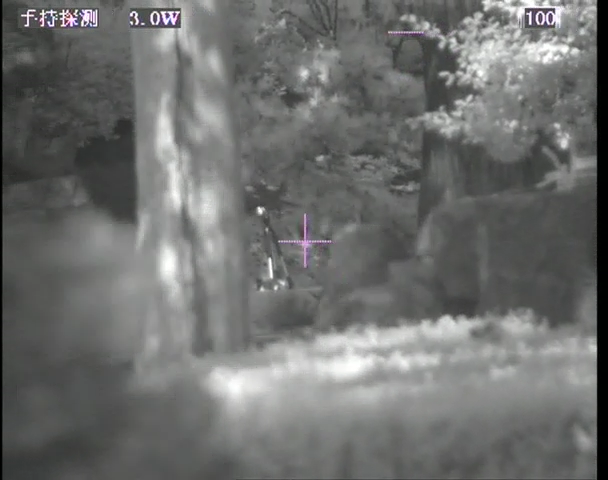my: (255, 206, 266, 217)
